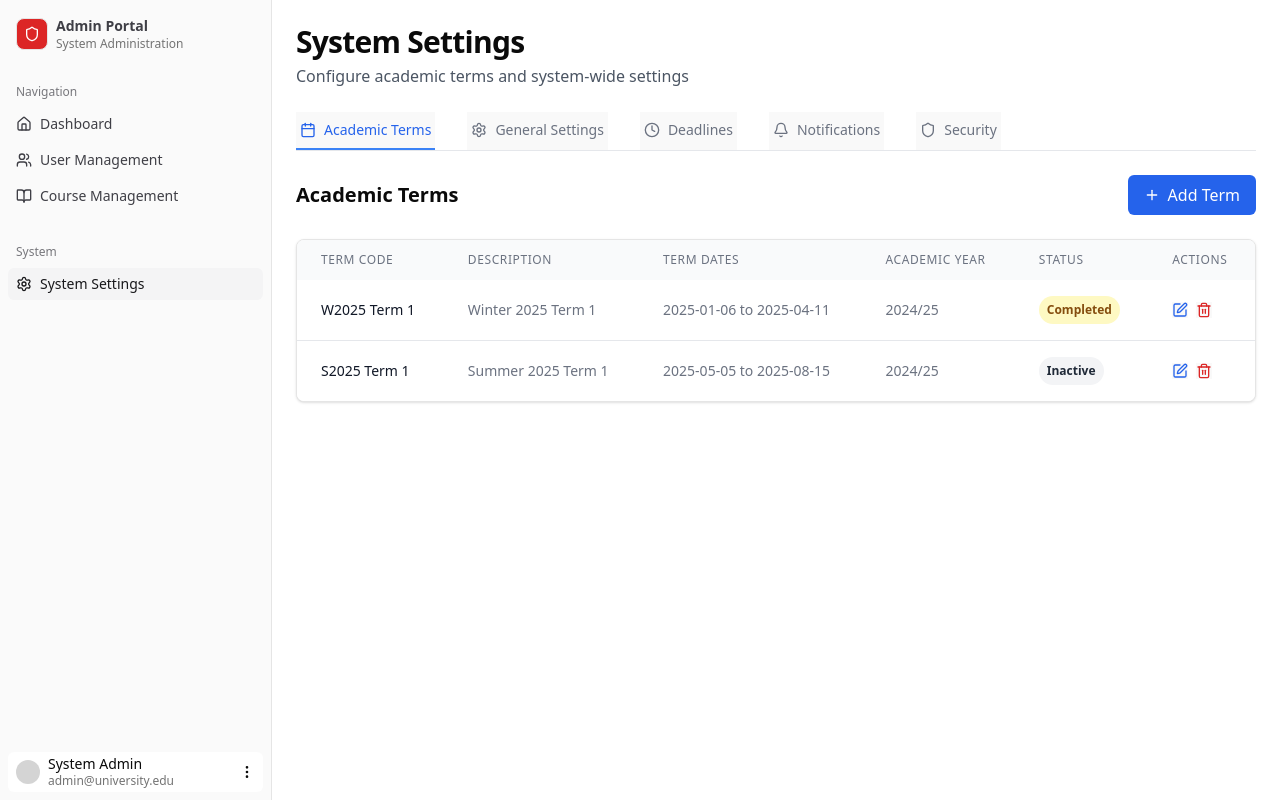
SystemSettings › Add Term Modal › opens add term modal when Add Term button is clicked
This screenshot has width=1280, height=800.
What coordinates should you click on to do the following:
click the button "Add Term"
I would click on:
 (1192, 195)
Its box is [1128, 175, 1256, 215].
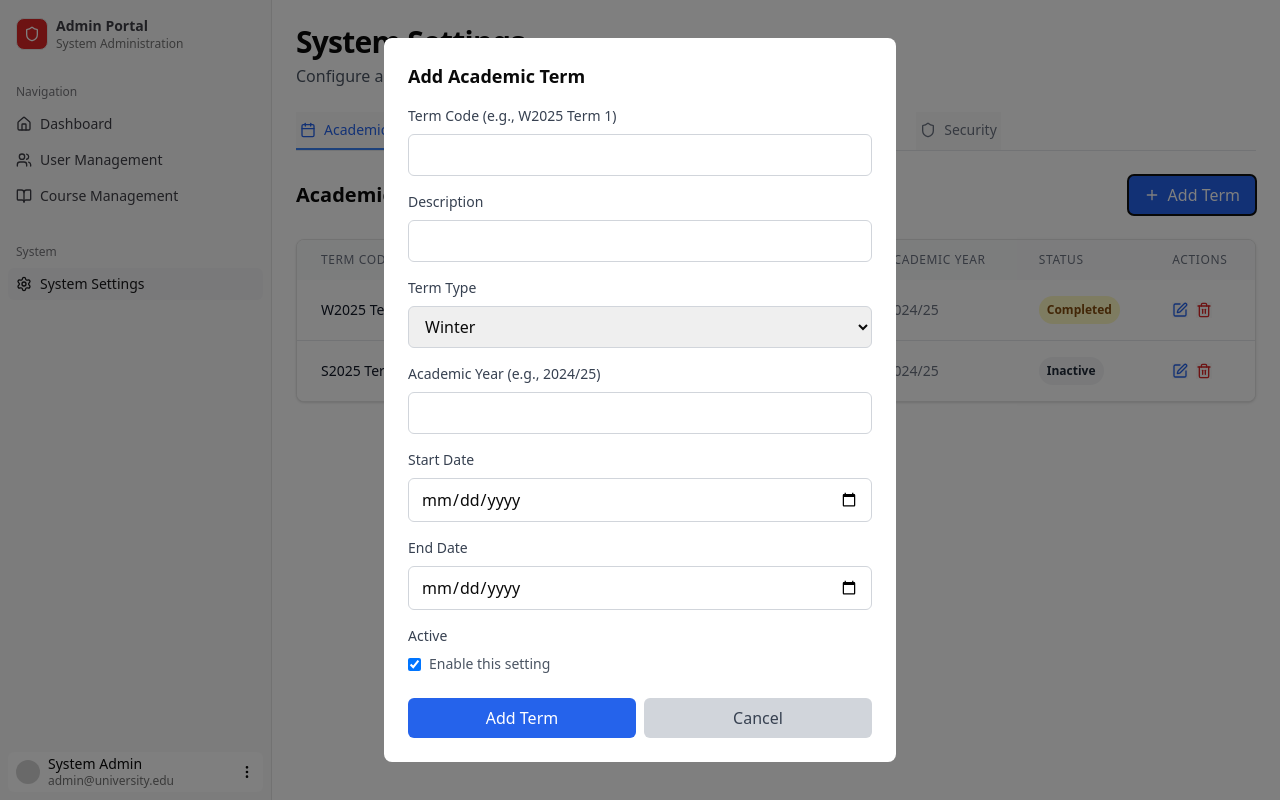
Expected: the heading "Add Academic Term" is shown, [408, 64, 585, 88]
Expected: the text "Term Code (e.g., W2025 Term 1)" is shown, [408, 106, 616, 125]
